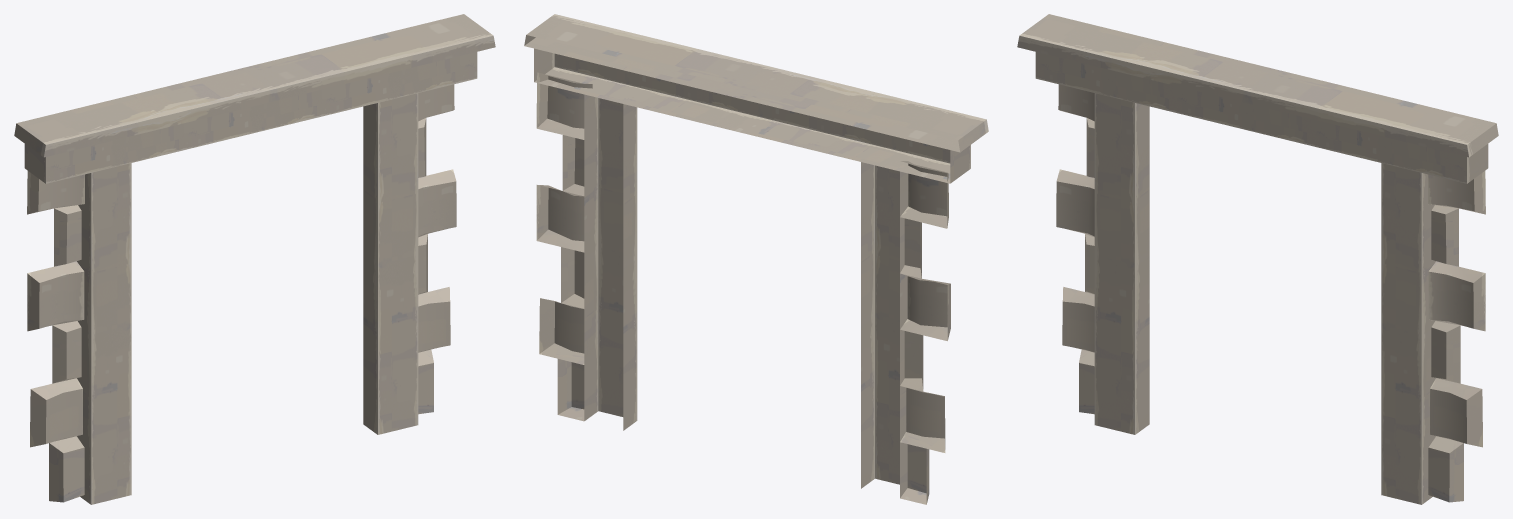
File: MOD_Door_03_framedeco_03_01.fbx
3 renders of one model, left to right at view 1: azimuth 30°, elevation 25°; view 2: azimuth 150°, elevation 25°; view 3: azimuth 330°, elevation 25°, orthographic. The views are drawn at different scales.
Parts seen in each view (by area): view 1: MOD_Door_03_framedeco_03_01; view 2: MOD_Door_03_framedeco_03_01; view 3: MOD_Door_03_framedeco_03_01.
Part boxes in pixels (<box>): MOD_Door_03_framedeco_03_01: <box>14,14,495,504</box>; MOD_Door_03_framedeco_03_01: <box>524,14,988,504</box>; MOD_Door_03_framedeco_03_01: <box>1017,14,1498,504</box>.
Size of the model in its own units: 359 by 293 by 41.09.
